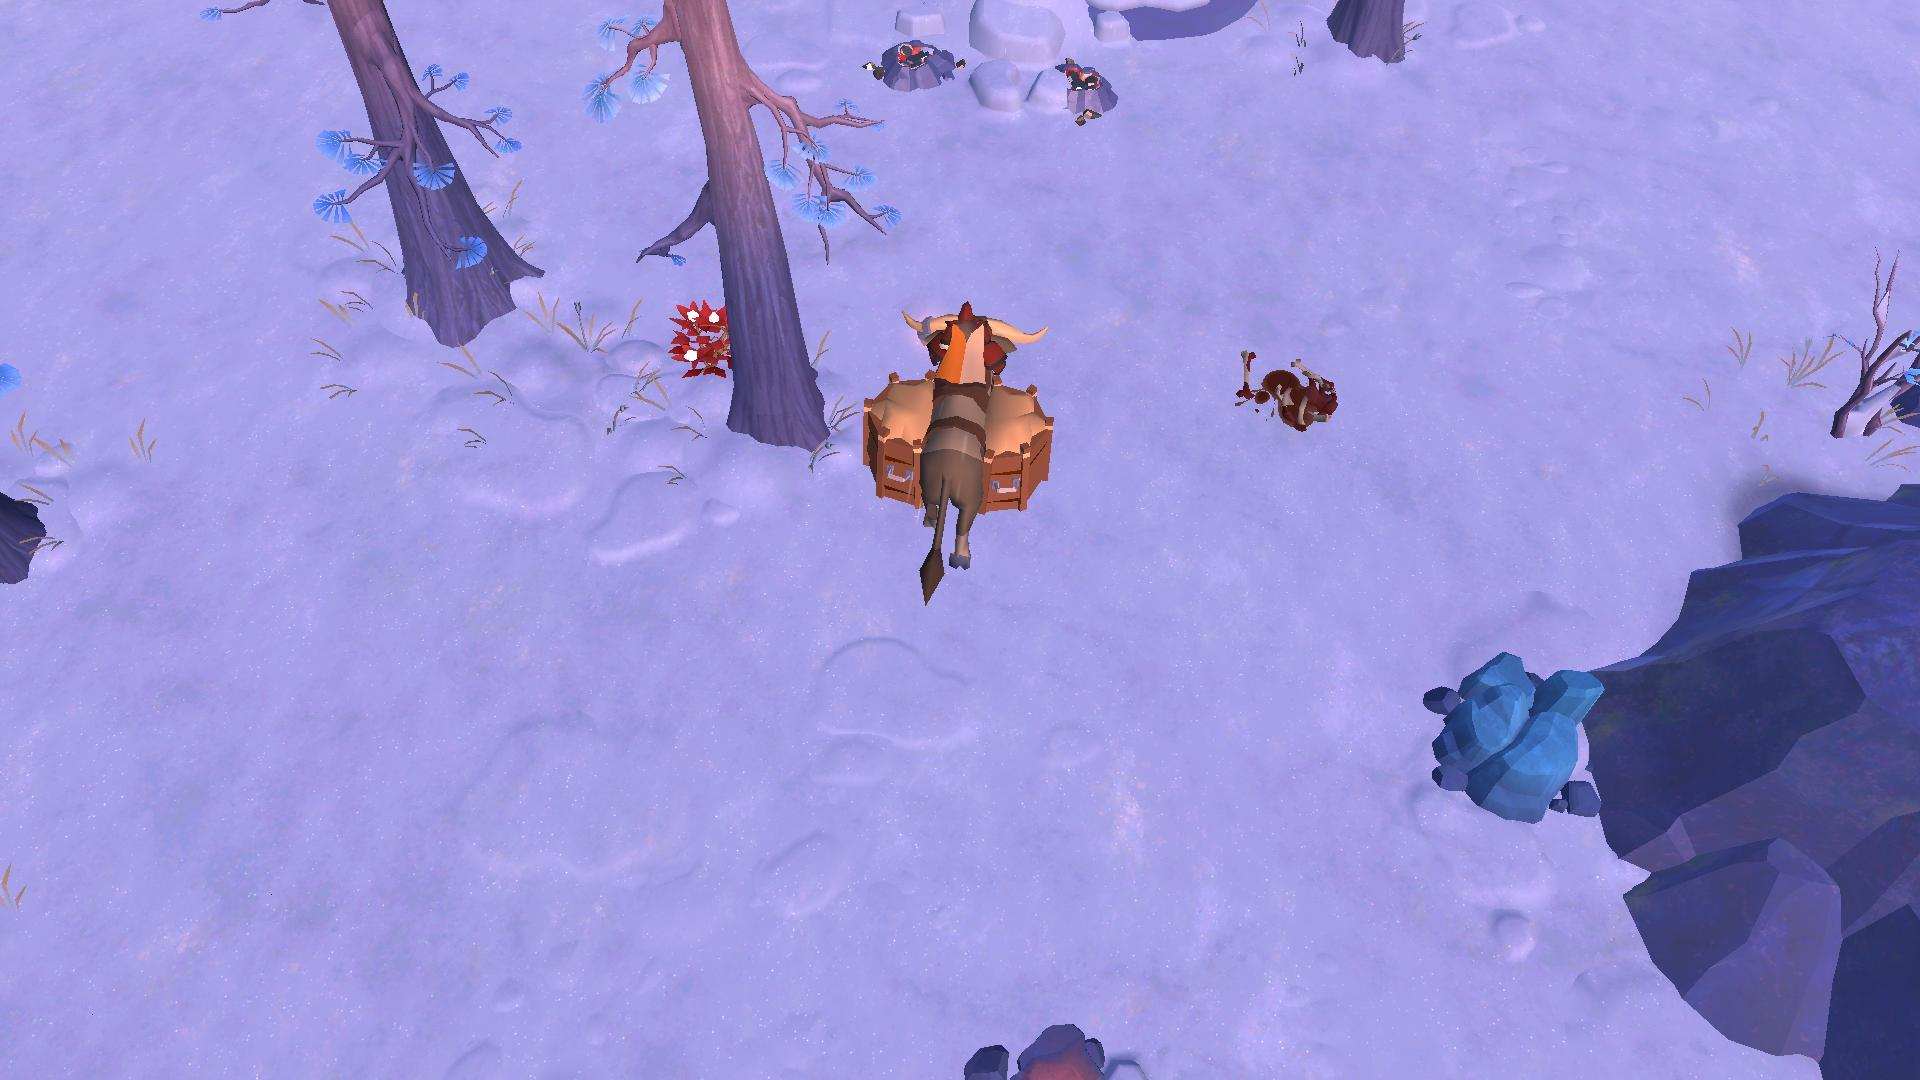fiber_t5: (670, 299, 735, 384)
rock_t4: (1427, 649, 1610, 827)
